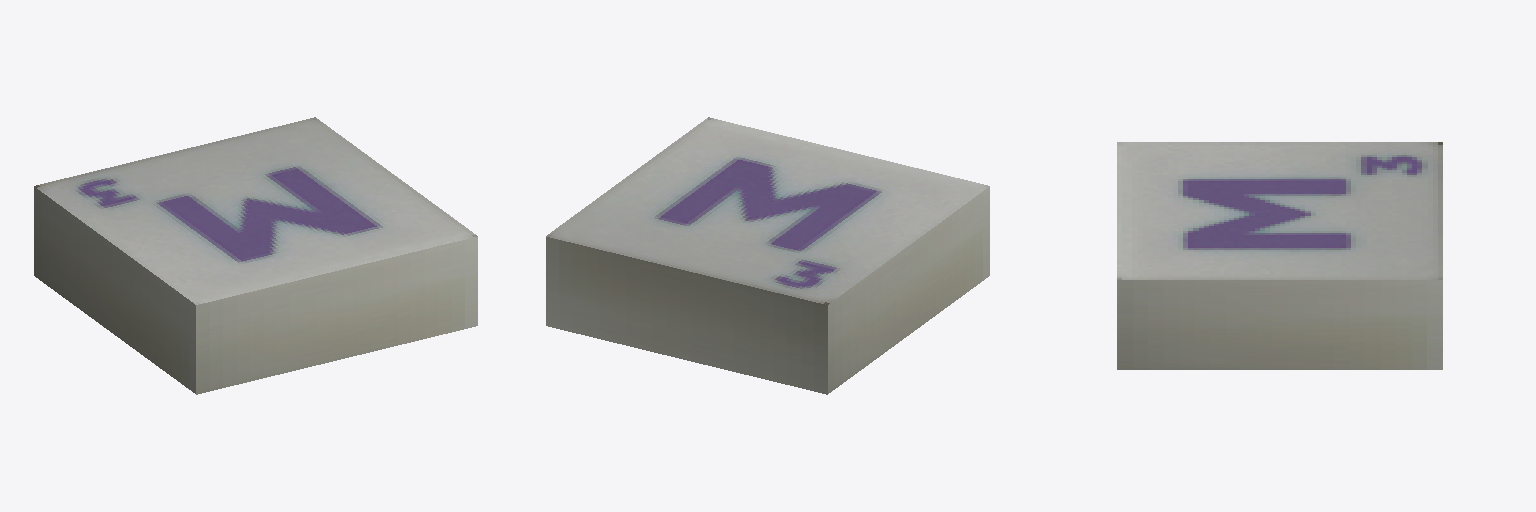
3 views of the same model, side by side, from view 1: azimuth 30°, elevation 25°; view 2: azimuth 150°, elevation 25°; view 3: azimuth 270°, elevation 25° (orthographic).
Parts seen in each view (by area): view 1: Cube; view 2: Cube; view 3: Cube.
Part boxes in pixels (left/top/right/bottom): Cube: left=34, top=117, right=477, bottom=394; Cube: left=546, top=117, right=989, bottom=394; Cube: left=1117, top=142, right=1442, bottom=369.
Size of the model in its own units: 19.89 by 6.03 by 19.89.
Materials: 3 (3 with a texture image).